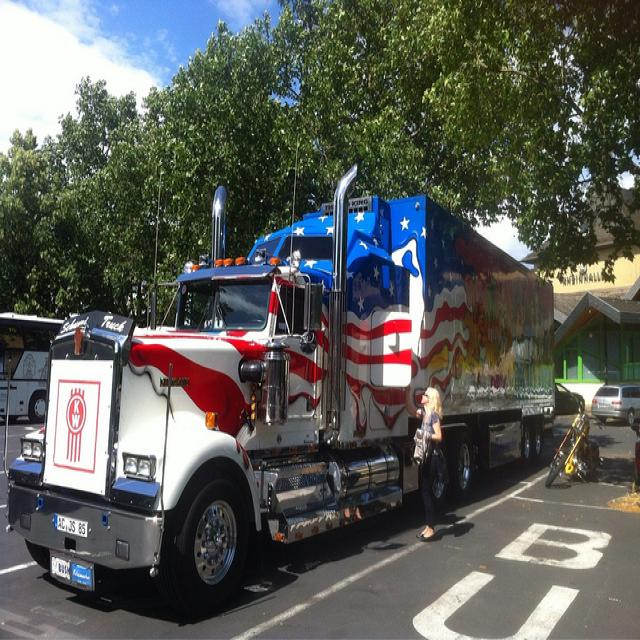motor: (544, 394, 605, 486)
